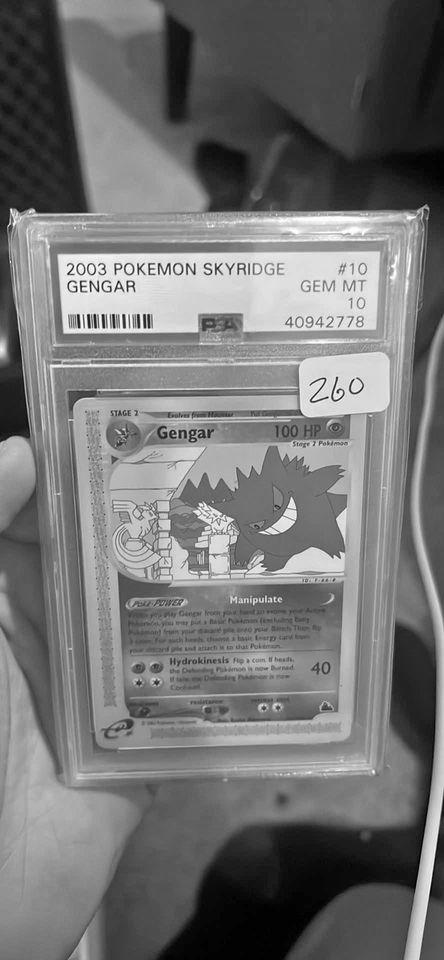card: (70, 395, 369, 751)
